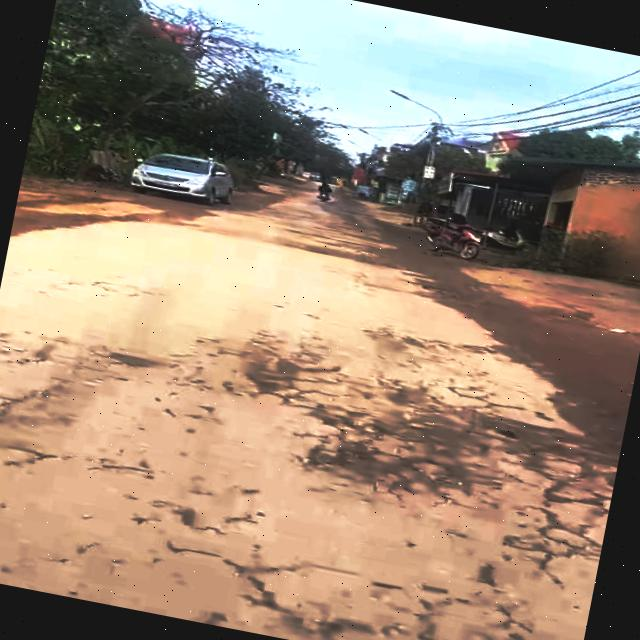pothole: (297, 402, 488, 508), (468, 404, 624, 502), (230, 344, 316, 407)
